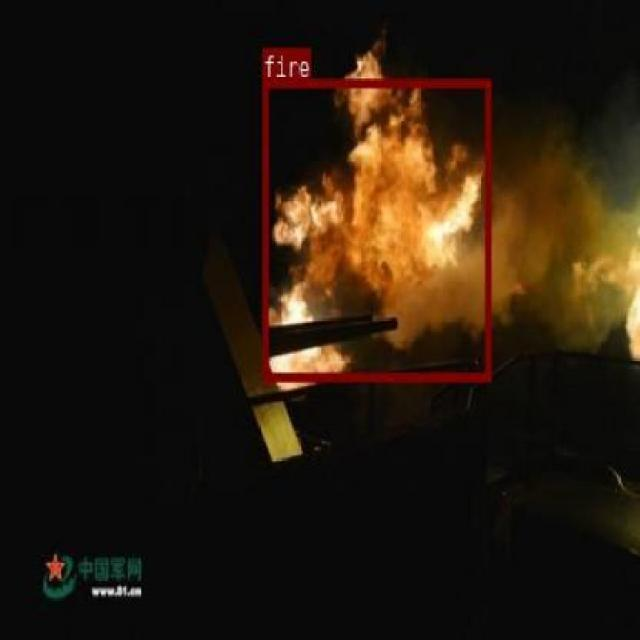Fire: (262, 78, 489, 380)
Smoke: (483, 87, 640, 347)
